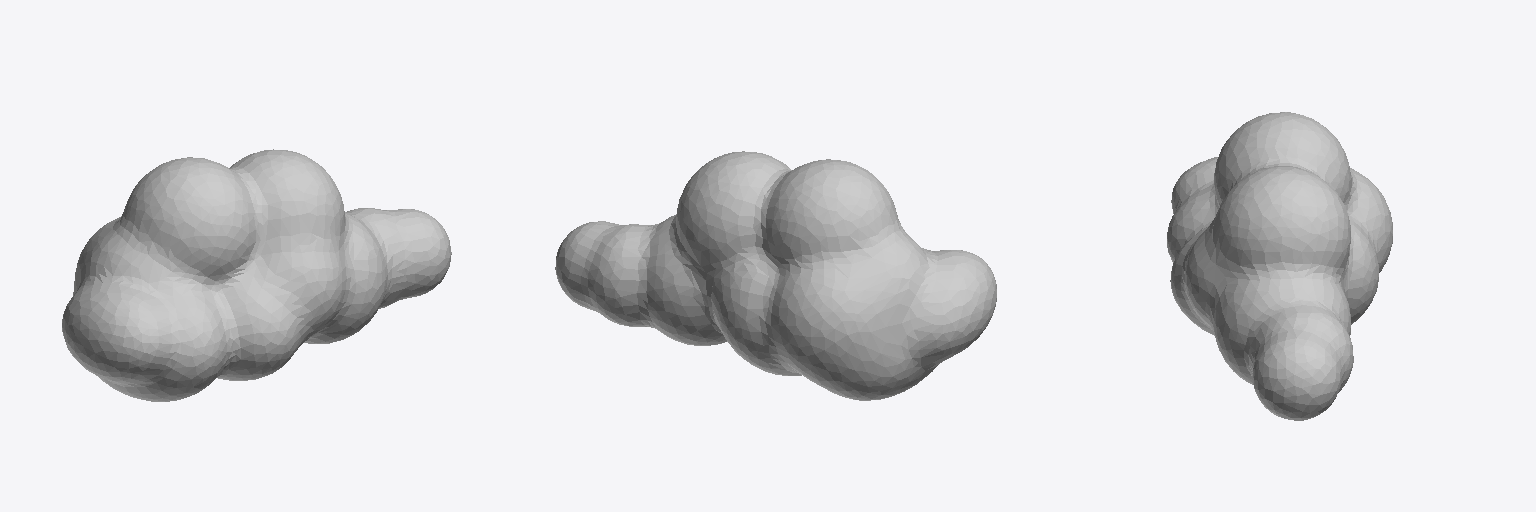
The model's file is cloud.obj.
3 renders of one model, left to right at view 1: azimuth 30°, elevation 25°; view 2: azimuth 150°, elevation 25°; view 3: azimuth 270°, elevation 25°, orthographic.
Parts seen in each view (by area): view 1: Cloud_Mesh.001; view 2: Cloud_Mesh.001; view 3: Cloud_Mesh.001.
Boxes of the visible parts, box(x1,y1,x2,y2) form: Cloud_Mesh.001: box(62, 149, 451, 401); Cloud_Mesh.001: box(555, 151, 996, 400); Cloud_Mesh.001: box(1167, 112, 1392, 420).
Size of the model in its own units: 10.6 by 5.44 by 5.25.